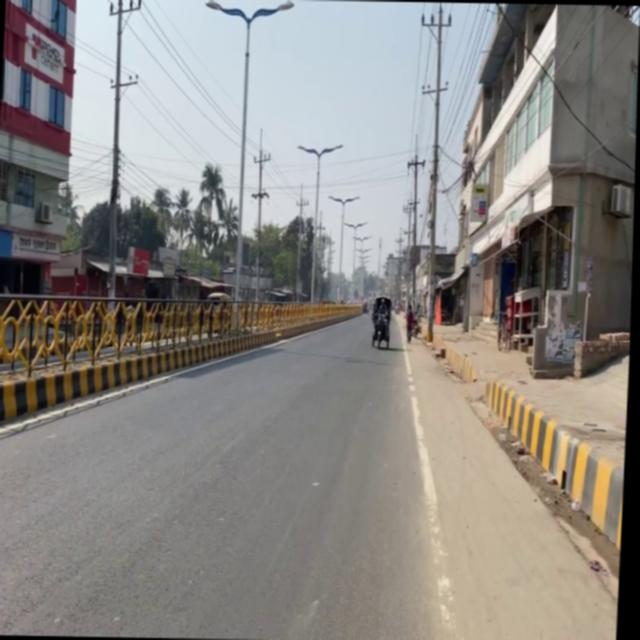Fallen-tree: (370, 307, 393, 348), (411, 312, 424, 338)
Garbage: (502, 284, 544, 351)
Garbage-bin: (405, 304, 416, 342)
Pole: (0, 278, 348, 424)
Pothole: (420, 326, 631, 548)
